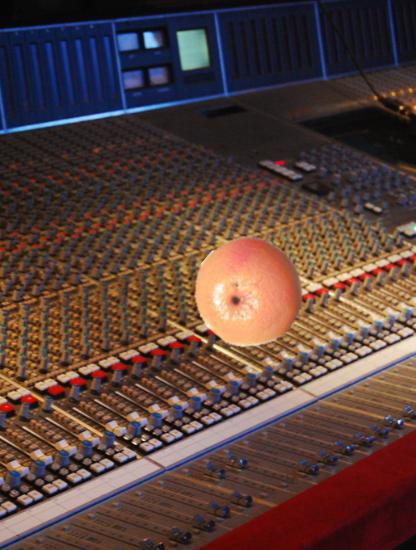Grapefruit: (194, 237, 305, 348)
